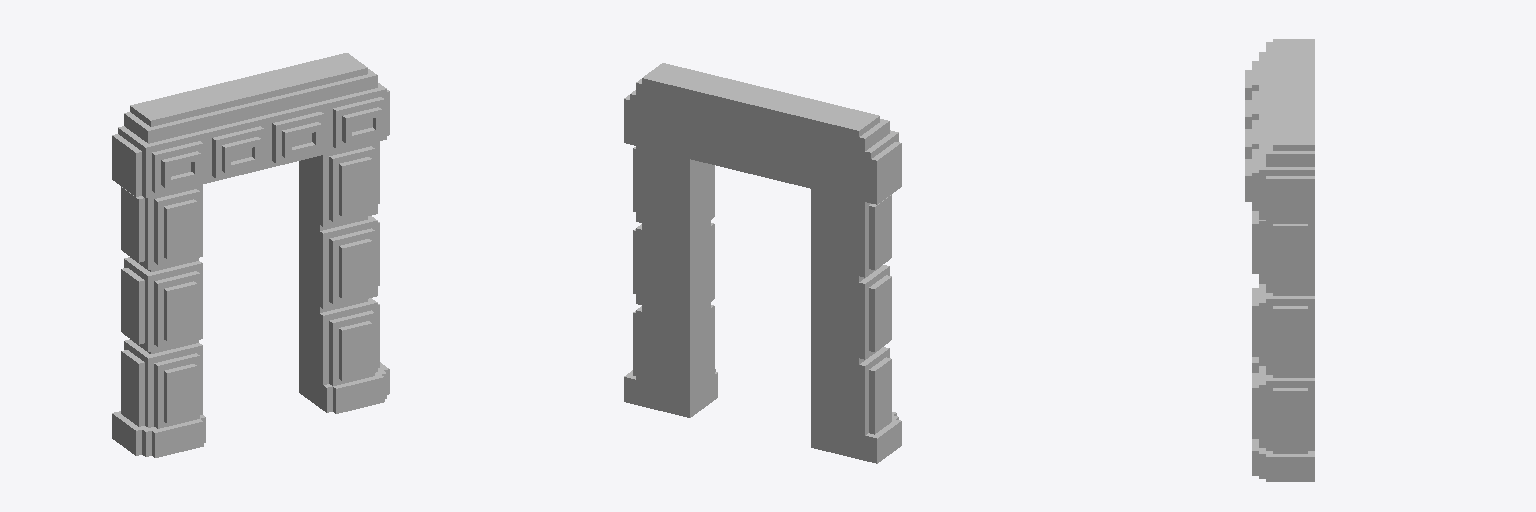
Rendered from goalFrame.obj.
3 renders of one model, left to right at view 1: azimuth 30°, elevation 25°; view 2: azimuth 150°, elevation 25°; view 3: azimuth 270°, elevation 25°, orthographic.
Visible parts, largest first — view 1: Goal; view 2: Goal; view 3: Goal.
Boxes of the visible parts, x1=… form: Goal: x1=112, y1=53, x2=389, y2=457; Goal: x1=624, y1=63, x2=901, y2=463; Goal: x1=1245, y1=39, x2=1314, y2=481.
Size of the model in its own units: 2.7 by 3.34 by 0.6417.